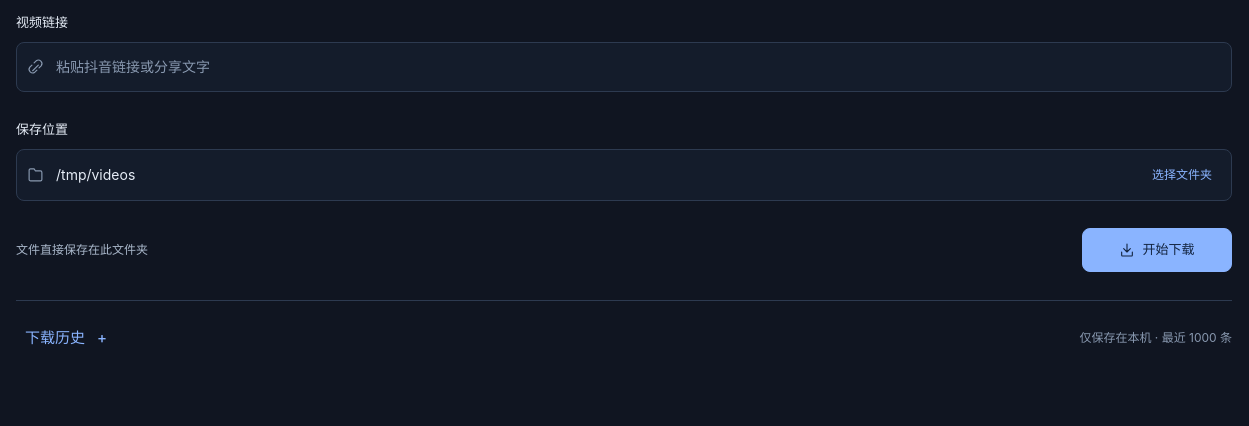
it: shows a retry action when history cannot be read
Expected: the field showing "/tmp/videos" is shown, [54,160,1133,190]
Click the button "下载历史 +": coordinates (66, 338) [16,319,116,357]
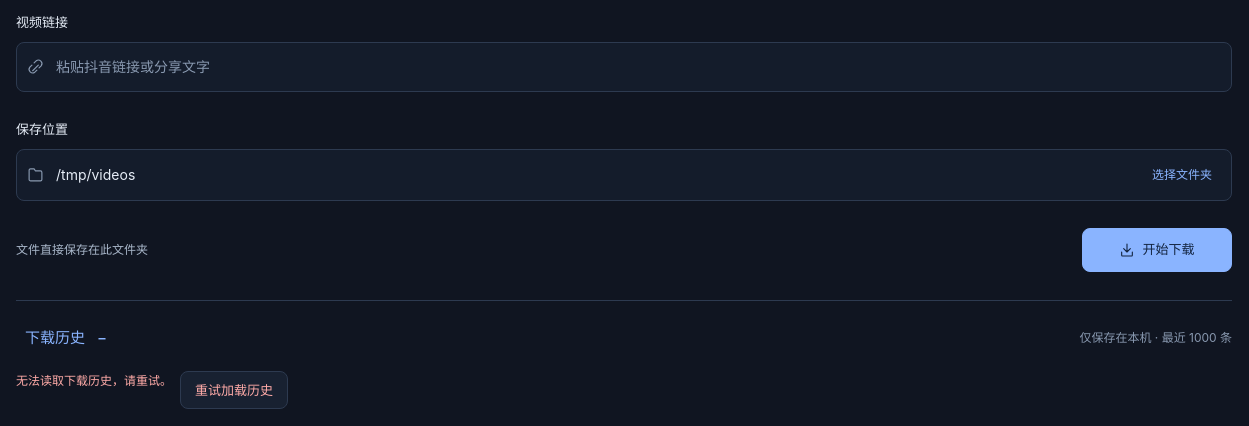
Now the text "无法读取下载历史，请重试。" is shown, box [16,371,172,390]
Click the button "重试加载历史": coordinates (234, 390) [180,371,288,409]
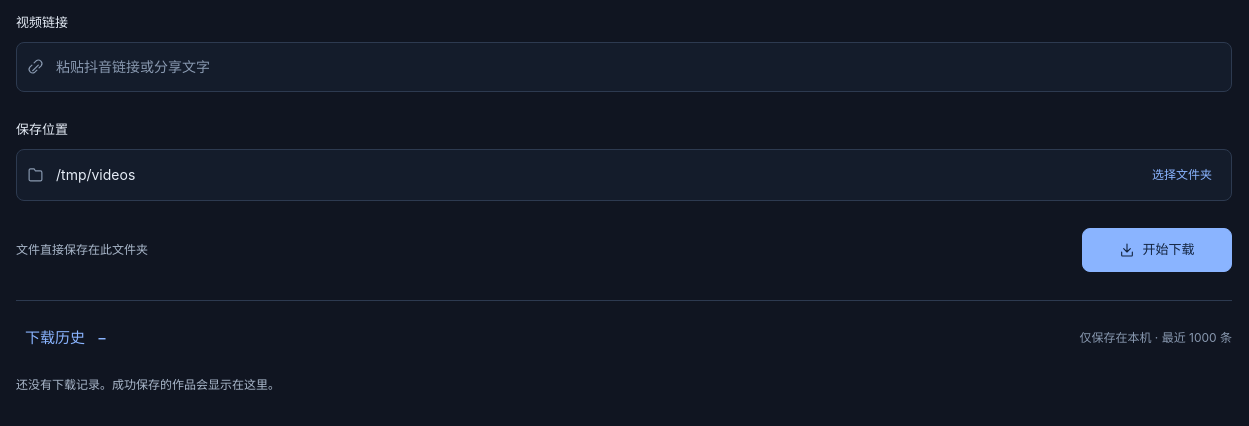
Now the text "还没有下载记录。成功保存的作品会显示在这里。" is shown, box [16,377,280,392]
